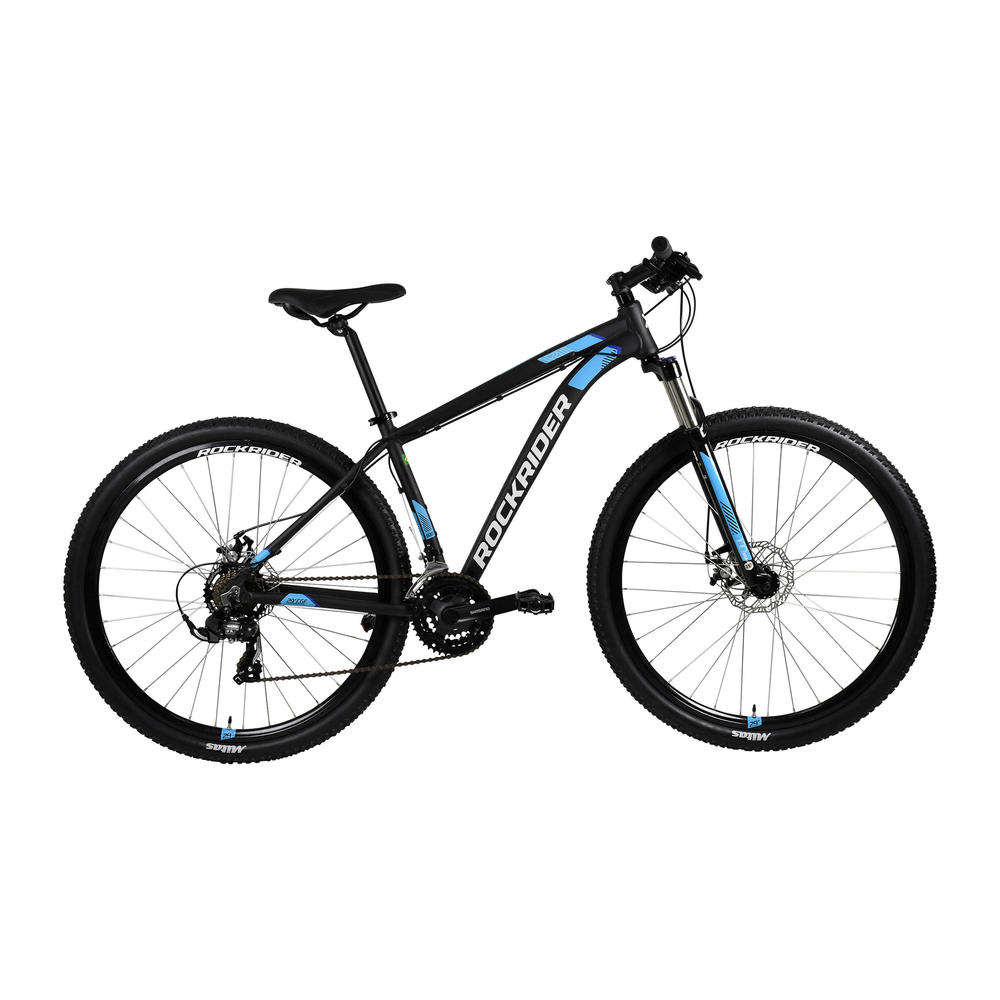MountainBike: (63, 232, 935, 764)
